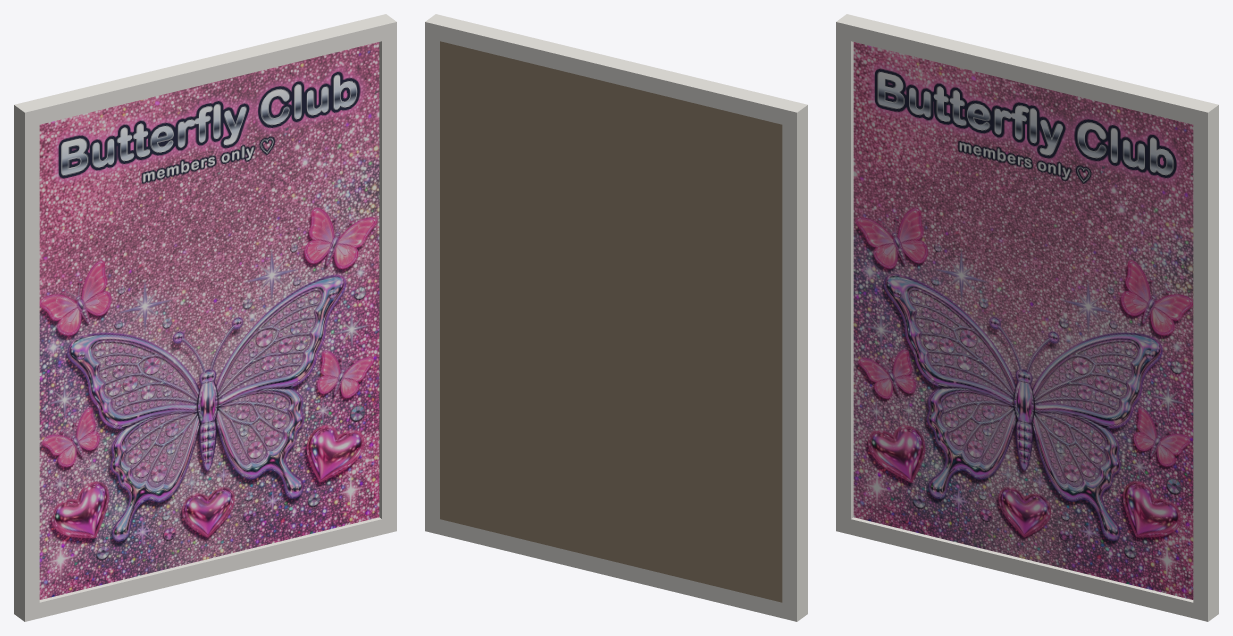
Rendered from poster-butterfly-club.glb.
3 renders of one model, left to right at view 1: azimuth 30°, elevation 25°; view 2: azimuth 150°, elevation 25°; view 3: azimuth 330°, elevation 25°, orthographic.
Parts seen in each view (by area): view 1: poster-butterfly-club; view 2: poster-butterfly-club; view 3: poster-butterfly-club.
Boxes of the visible parts, x1,y1,x2,y2 form: poster-butterfly-club: (14,14,396,621); poster-butterfly-club: (425,14,807,621); poster-butterfly-club: (836,14,1218,621).
Bounding box in the file's own units: 0.497 × 0.65 × 0.025.
3 materials, 1 textured.
